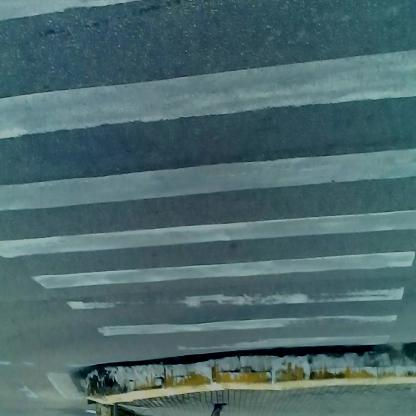crosswalk: (3, 2, 408, 344)
sidewalk: (84, 337, 416, 410)
